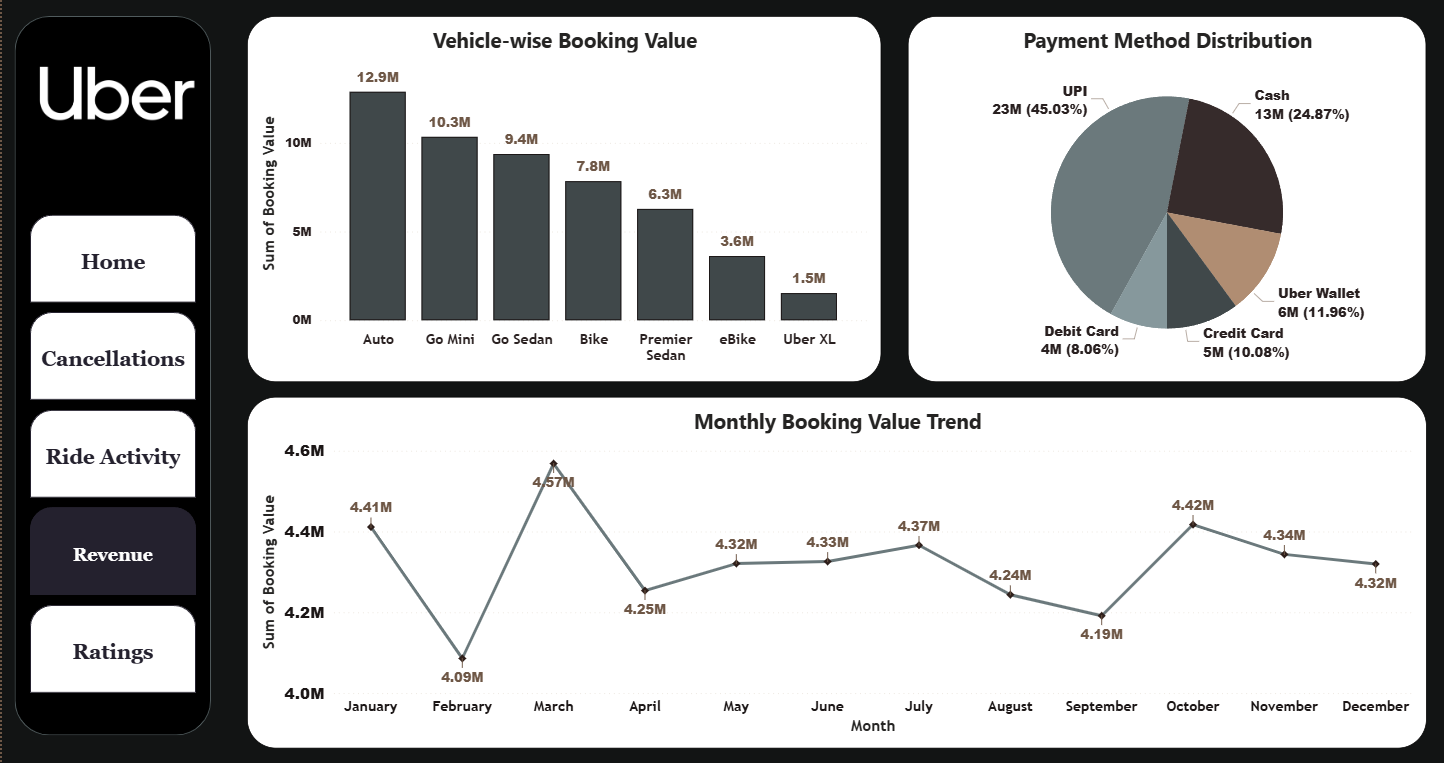

This screenshot's page, from the dashboard's own definition file:
{"tool":"powerbi","page":{"name":"Revenue","canvas":[1500,800],"ordinal":3},"visuals":[{"type":"pieChart","title":"Payment Method Distribution ","fields":{"Category":["ncr_ride_bookings.Payment Method"],"Y":["Sum(ncr_ride_bookings.Booking Value)"]},"box":[939,21.2,537,379.2],"z":0},{"type":"lineStackedColumnComboChart","title":"Vehicle-wise Booking Value","fields":{"Category":["ncr_ride_bookings.Vehicle Type"],"Y":["Sum(ncr_ride_bookings.Booking Value)"]},"box":[253.9,21.2,657.5,379.2],"z":1000},{"type":"lineChart","title":"Monthly Booking Value Trend","fields":{"Y":["Sum(ncr_ride_bookings.Booking Value)"],"Category":["ncr_ride_bookings.Date.Variation.Date Hierarchy.Month"]},"box":[253.9,416.6,1222.1,364.5],"z":2000},{"type":"shape","box":[13,21.2,203.4,745.3],"z":3000},{"type":"image","box":[26.9,47.8,182.2,107.5],"z":4000},{"type":"pageNavigator","box":[29.3,227.8,172.5,498],"z":5000}]}

Visuals, with their boxes in screenshot pixels (x1, y1, x2, y2), scaled from the page's 1500x800 canvas onto the 1444x763 screenshot:
"Payment Method Distribution " pieChart: [x1=904, y1=20, x2=1421, y2=382]
"Vehicle-wise Booking Value" lineStackedColumnComboChart: [x1=244, y1=20, x2=877, y2=382]
"Monthly Booking Value Trend" lineChart: [x1=244, y1=397, x2=1421, y2=745]
shape: [x1=13, y1=20, x2=208, y2=731]
image: [x1=26, y1=46, x2=201, y2=148]
pageNavigator: [x1=28, y1=217, x2=194, y2=692]
